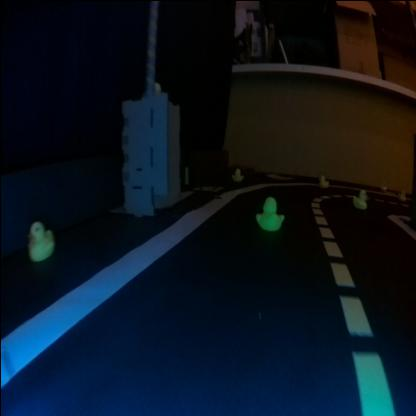Duckie: (26, 220, 52, 258), (255, 200, 283, 228), (352, 188, 366, 206), (319, 176, 328, 186), (233, 170, 242, 178)
QR code: (194, 182, 218, 189)
